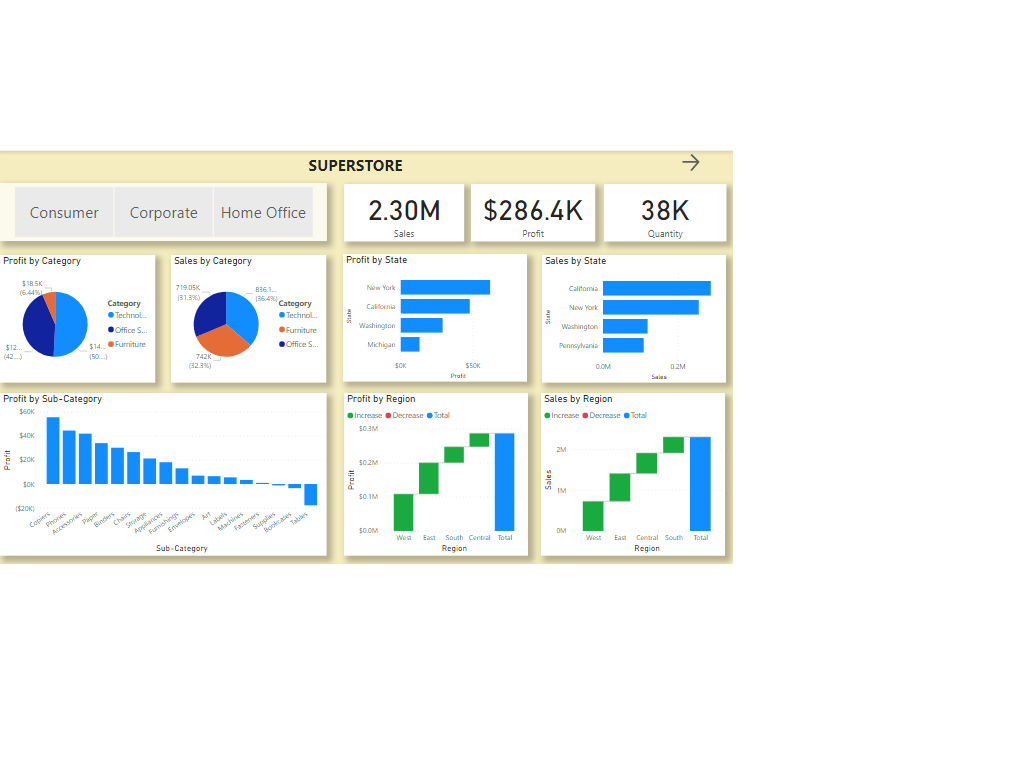

This screenshot's page, from the dashboard's own definition file:
{"tool":"powerbi","page":{"name":"Page 1","canvas":[1280,720],"ordinal":1},"visuals":[{"type":"slicer","fields":{"Values":["SampleSuperstore.Segment"]},"box":[0,54.4,502.9,102.3],"z":0},{"type":"textbox","box":[502.9,0,231.6,54.9],"z":1000},{"type":"card","fields":{"Values":["Sum(SampleSuperstore.Sales)"]},"box":[543,57.9,218.6,99.9],"z":2000},{"type":"card","fields":{"Values":["Sum(SampleSuperstore.Profit)"]},"box":[783.2,57.9,234.7,100.6],"z":3000},{"type":"card","fields":{"Values":["Sum(SampleSuperstore.Quantity)"]},"box":[1048.4,57.9,213.3,100.6],"z":4000},{"type":"pieChart","fields":{"Category":["SampleSuperstore.Category"],"Y":["Sum(SampleSuperstore.Profit)"]},"box":[0,180.7,269.9,222],"z":5000},{"type":"clusteredColumnChart","fields":{"Category":["SampleSuperstore.Sub-Category"],"Y":["Sum(SampleSuperstore.Profit)"]},"box":[0,420.1,568.2,283],"z":6000},{"type":"clusteredBarChart","title":"Profit by  State","fields":{"Category":["SampleSuperstore.State"],"Y":["Sum(SampleSuperstore.Profit)"]},"box":[597.3,179.8,320,222.5],"z":7000},{"type":"waterfallChart","fields":{"Category":["SampleSuperstore.Region"],"Y":["Sum(SampleSuperstore.Sales)"]},"box":[940.4,420.1,320,283],"z":8000},{"type":"pieChart","fields":{"Category":["SampleSuperstore.Category"],"Y":["Sum(SampleSuperstore.Sales)"]},"box":[298.2,180.7,269.9,222],"z":8001},{"type":"waterfallChart","fields":{"Category":["SampleSuperstore.Region"],"Y":["Sum(SampleSuperstore.Profit)"]},"box":[598.6,420.1,320,283],"z":8002},{"type":"clusteredBarChart","fields":{"Category":["SampleSuperstore.State"],"Y":["Sum(SampleSuperstore.Sales)"]},"box":[942.6,180.7,320,222],"z":8003}]}

Visuals, with their boxes on the page's 1280x720 design canvas (x1, y1, x2, y2). These are canvas units, not pixel positions in the 1024x768 screenshot, which may show the page scaled, cropped or inside an application window:
slicer - SampleSuperstore.Segment: (left=0, top=54, right=503, bottom=157)
textbox: (left=503, top=0, right=734, bottom=55)
card - Sum(SampleSuperstore.Sales): (left=543, top=58, right=762, bottom=158)
card - Sum(SampleSuperstore.Profit): (left=783, top=58, right=1018, bottom=158)
card - Sum(SampleSuperstore.Quantity): (left=1048, top=58, right=1262, bottom=158)
pieChart - SampleSuperstore.Category x Sum(SampleSuperstore.Profit): (left=0, top=181, right=270, bottom=403)
clusteredColumnChart - SampleSuperstore.Sub-Category x Sum(SampleSuperstore.Profit): (left=0, top=420, right=568, bottom=703)
"Profit by  State" clusteredBarChart: (left=597, top=180, right=917, bottom=402)
waterfallChart - SampleSuperstore.Region x Sum(SampleSuperstore.Sales): (left=940, top=420, right=1260, bottom=703)
pieChart - SampleSuperstore.Category x Sum(SampleSuperstore.Sales): (left=298, top=181, right=568, bottom=403)
waterfallChart - SampleSuperstore.Region x Sum(SampleSuperstore.Profit): (left=599, top=420, right=919, bottom=703)
clusteredBarChart - SampleSuperstore.State x Sum(SampleSuperstore.Sales): (left=943, top=181, right=1263, bottom=403)
